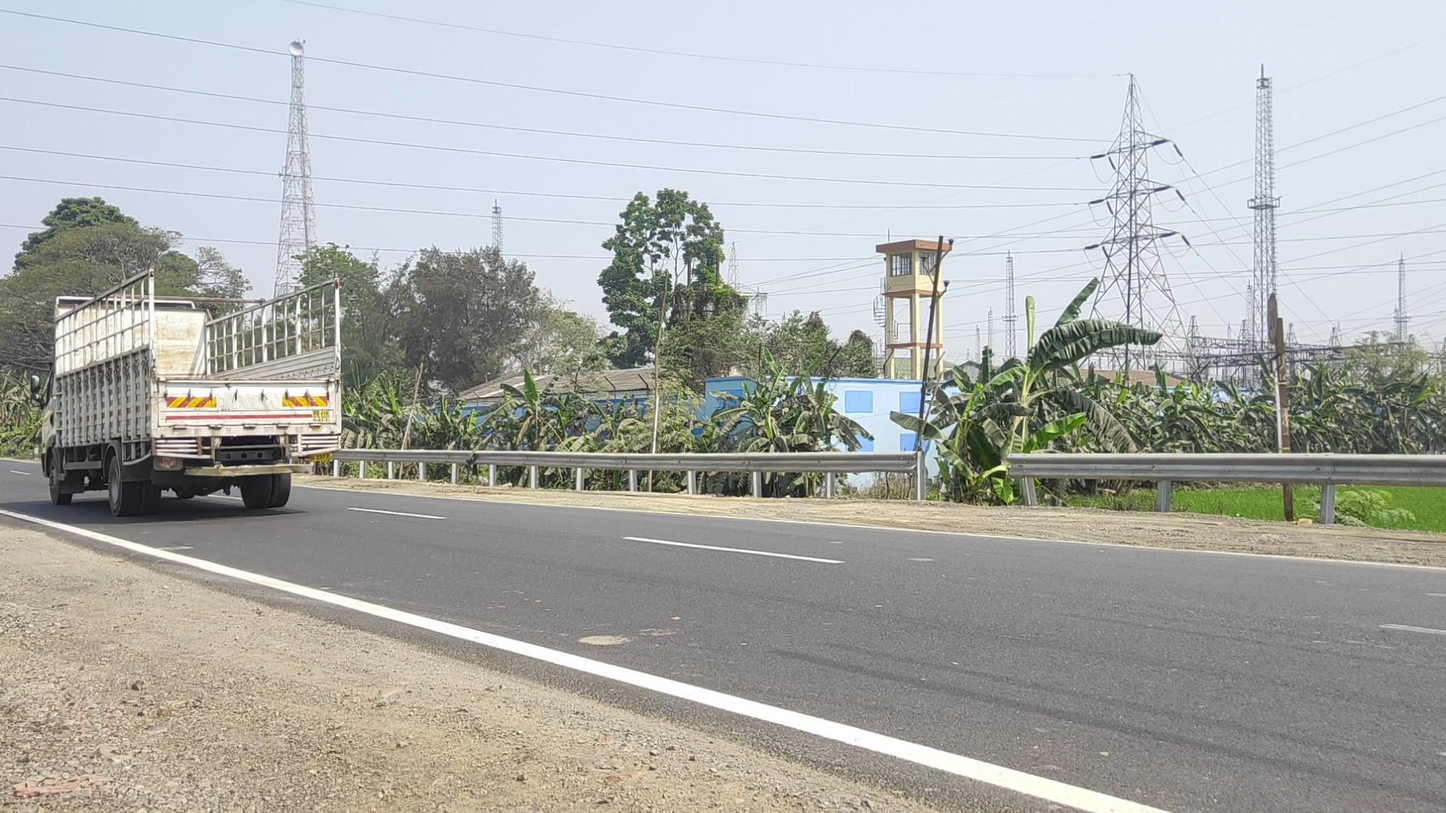van: (30, 262, 341, 516)
